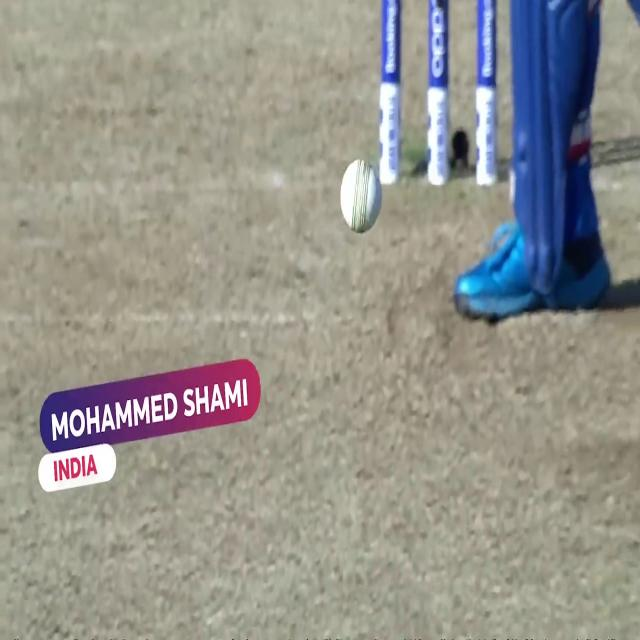ball: (338, 152, 384, 235)
